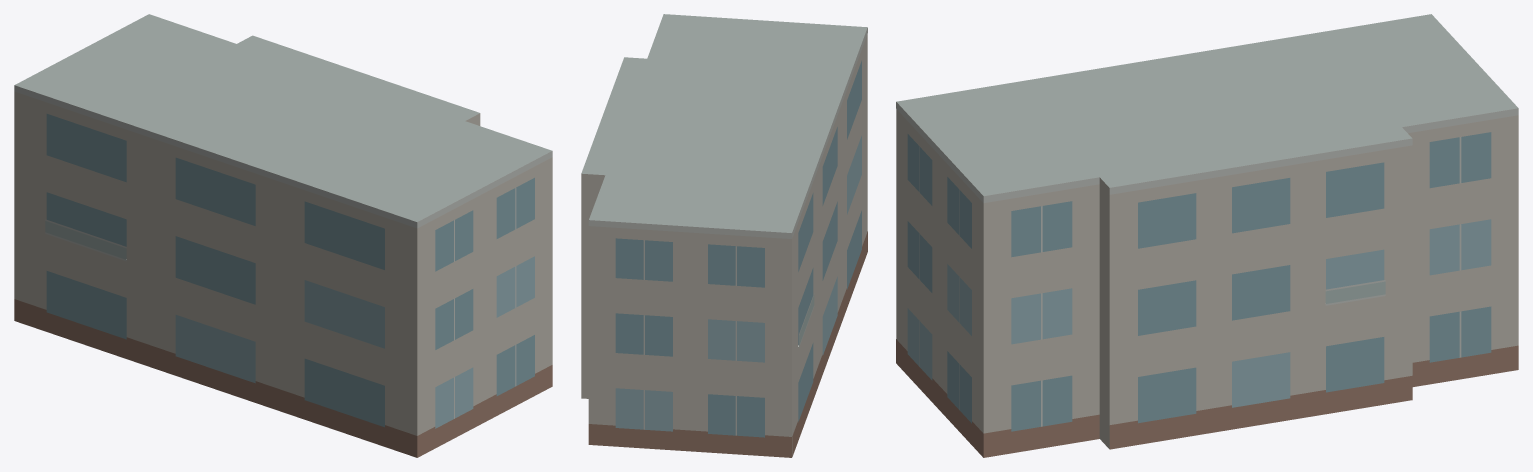
The model's file is survey-upis-32697634.glb.
The picture shows the model from 3 angles, left to right: view 1: azimuth 30°, elevation 25°; view 2: azimuth 150°, elevation 25°; view 3: azimuth 270°, elevation 25°; orthographic projection. The views are drawn at different scales.
Visible parts, largest first — view 1: survey-upis-32697634.tmp; view 2: survey-upis-32697634.tmp; view 3: survey-upis-32697634.tmp.
Part boxes in pixels (left/top/right/bottom): survey-upis-32697634.tmp: left=14, top=14, right=552, bottom=457; survey-upis-32697634.tmp: left=581, top=14, right=867, bottom=457; survey-upis-32697634.tmp: left=896, top=14, right=1518, bottom=457.
Bounding box in the file's own units: 13.68 × 9.15 × 19.74.
